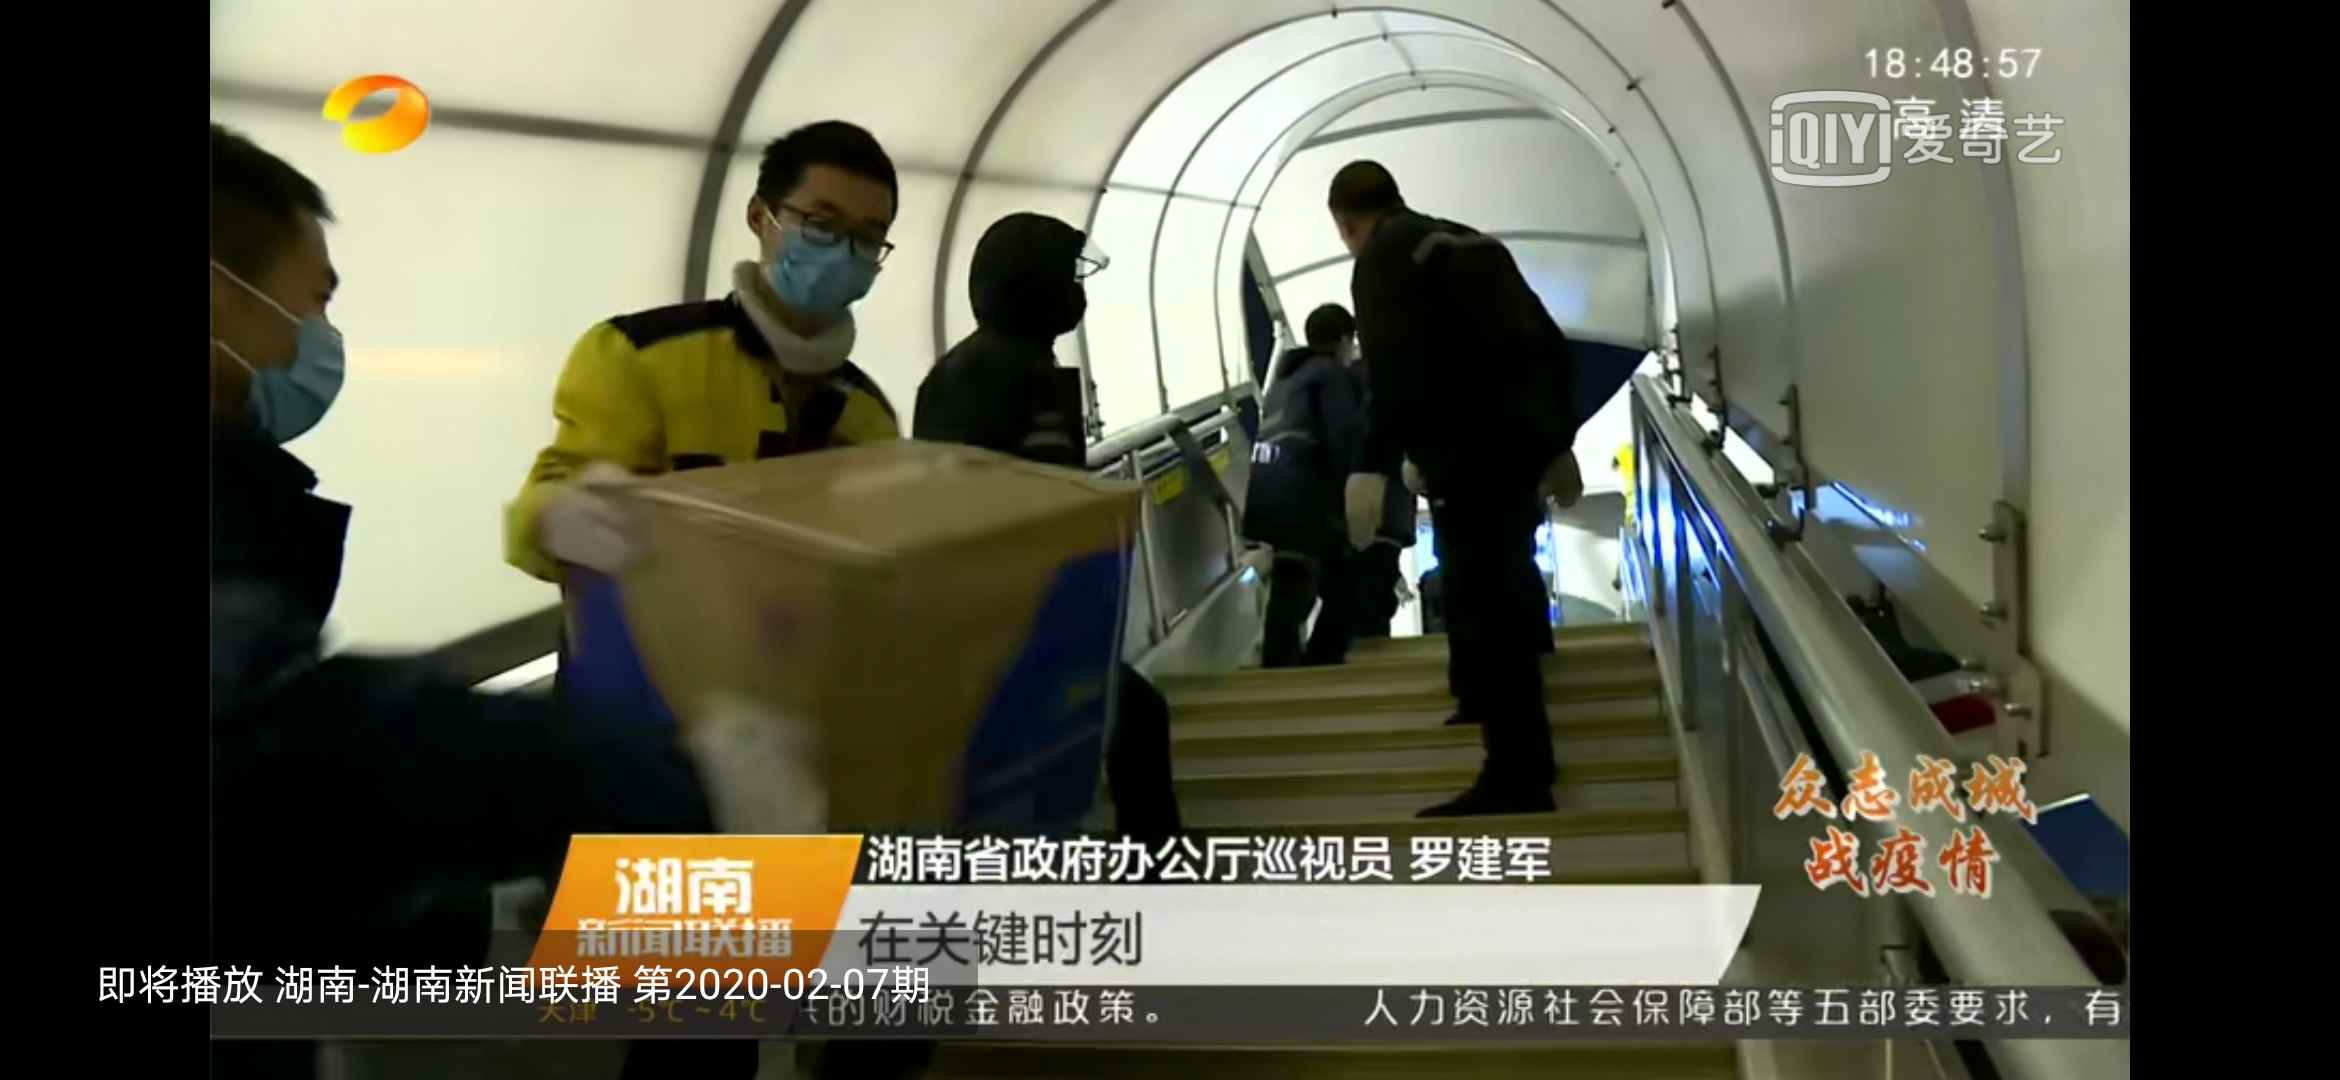correctlyWear: (200, 219, 349, 449), (742, 179, 895, 321)
